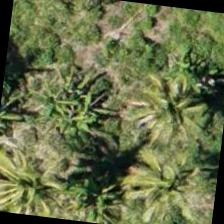Kelapa_Sawit: (125, 44, 223, 145), (5, 137, 104, 222), (122, 146, 219, 223)
